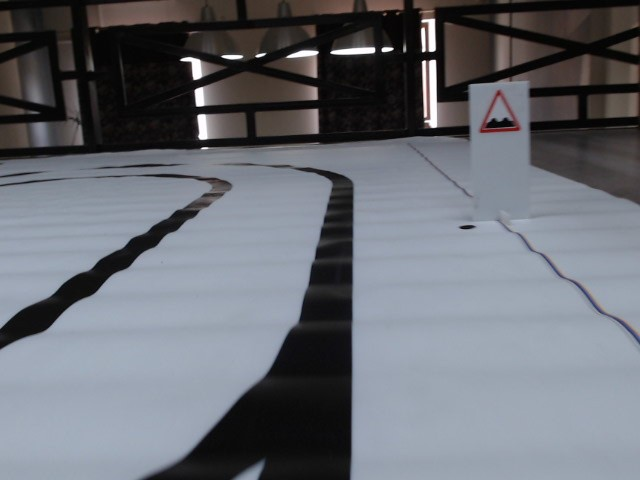Nerov: (477, 90, 524, 136)
